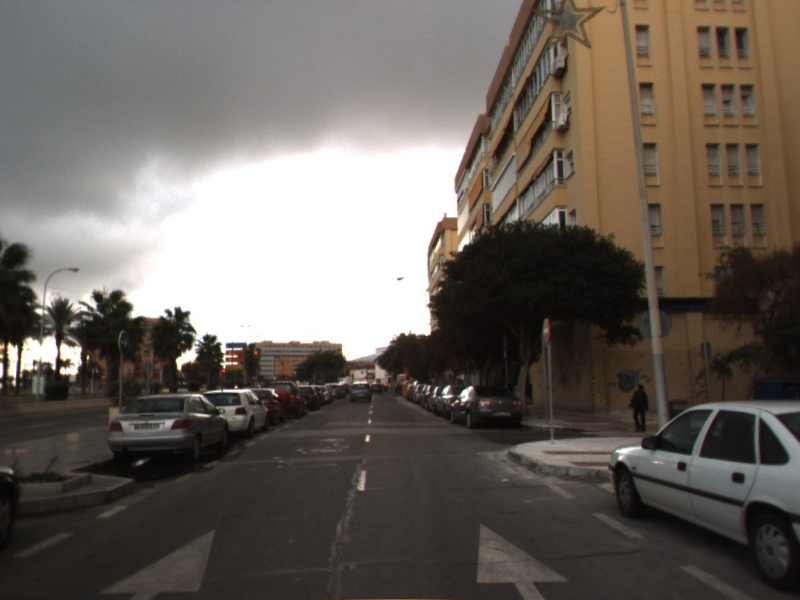STRAIGHT: (95, 525, 219, 600), (473, 520, 573, 600)
